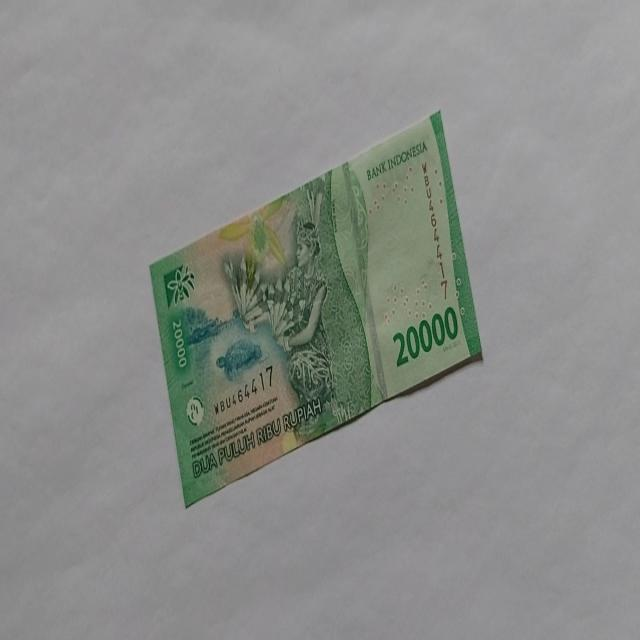dua puluh ribu rupiah: (148, 108, 484, 508), (391, 305, 459, 368)
